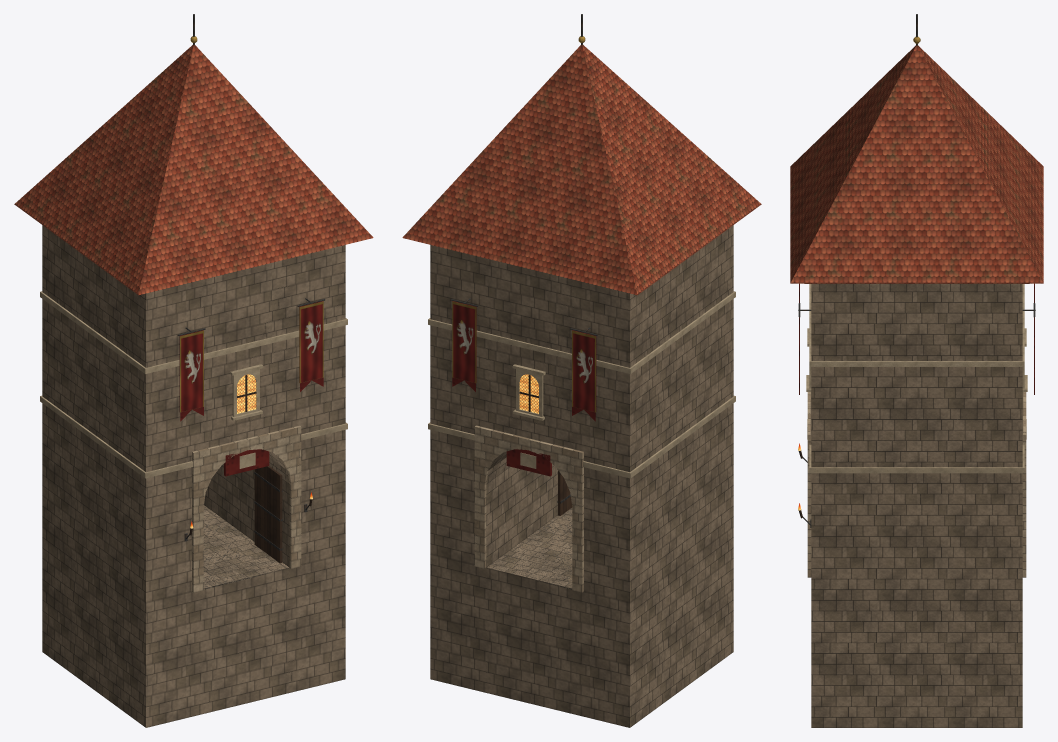
File: gate_tower.gltf
The picture shows the model from 3 angles, left to right: view 1: azimuth 30°, elevation 25°; view 2: azimuth 150°, elevation 25°; view 3: azimuth 270°, elevation 25°; orthographic projection.
Parts seen in each view (by area): view 1: gate_tower_mesh; view 2: gate_tower_mesh; view 3: gate_tower_mesh.
Boxes of the visible parts, box(x1,y1,x2,y2) form: gate_tower_mesh: box(14, 14, 373, 727); gate_tower_mesh: box(402, 14, 761, 727); gate_tower_mesh: box(790, 14, 1043, 727).
Size of what is drawn, in the model's own units: 11.8 by 31.2 by 10.8.
13 materials, 13 textured.
